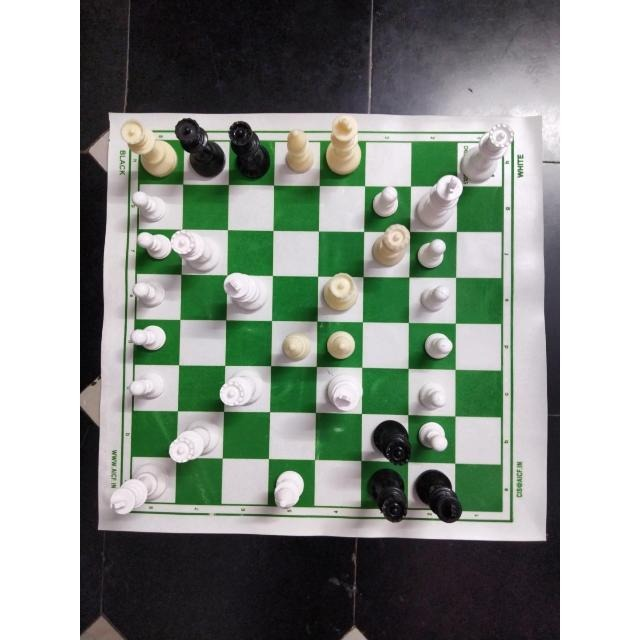black-king: (412, 468, 464, 528)
black-queen: (172, 116, 224, 180), (225, 119, 270, 183), (364, 470, 410, 526), (367, 418, 412, 468)
white-bishop: (267, 461, 310, 511), (278, 124, 315, 176), (319, 327, 359, 362), (277, 327, 313, 363)
white-king: (107, 463, 175, 517), (322, 113, 365, 177), (416, 172, 462, 228), (218, 269, 267, 314), (321, 370, 363, 412)
white-pawn: (129, 230, 173, 270), (124, 186, 170, 222), (124, 367, 170, 403), (124, 279, 172, 313), (124, 324, 168, 356), (414, 237, 453, 273), (418, 326, 455, 361), (414, 417, 450, 452), (415, 281, 453, 314), (414, 377, 450, 410), (368, 185, 402, 219)
white-queen: (115, 117, 177, 177), (461, 120, 517, 184), (168, 226, 224, 273), (165, 421, 221, 465), (367, 223, 413, 272), (316, 271, 362, 317), (214, 371, 266, 409)
